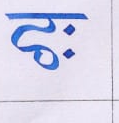anusvara: (66, 24, 74, 34)
